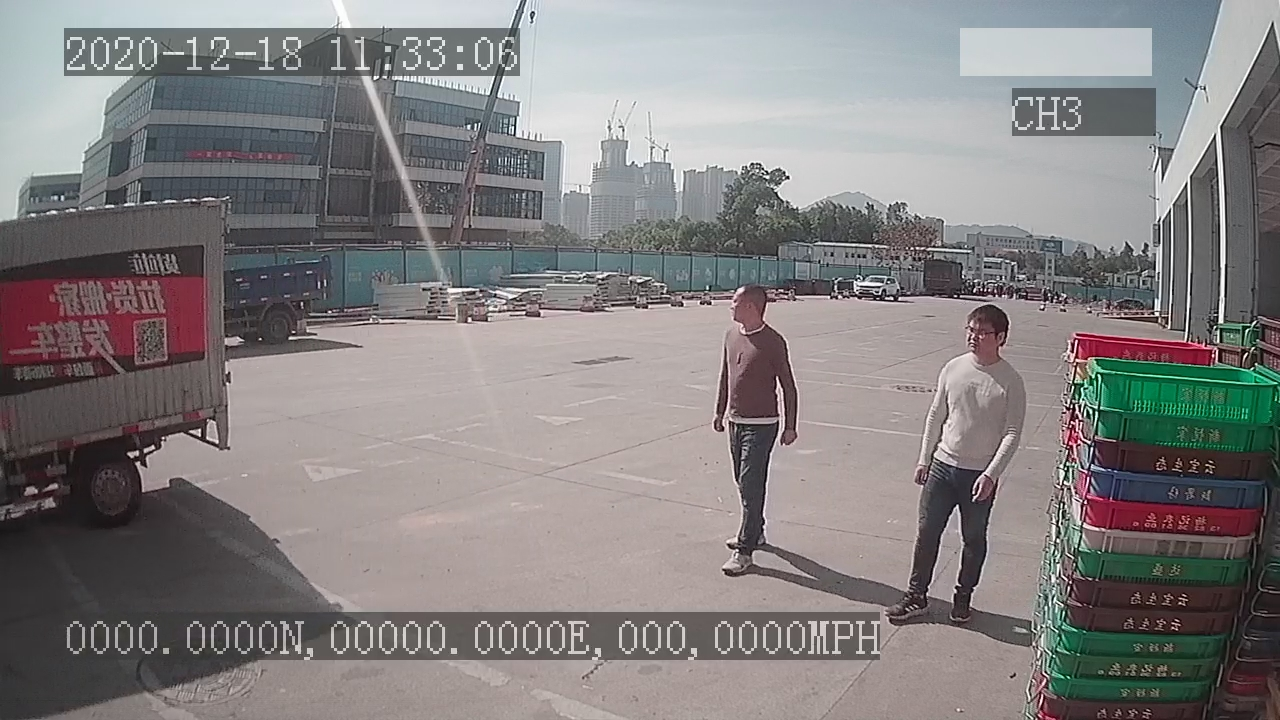person: (888, 294, 1025, 633), (702, 277, 801, 574)
